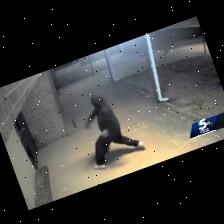person: (85, 93, 144, 169)
